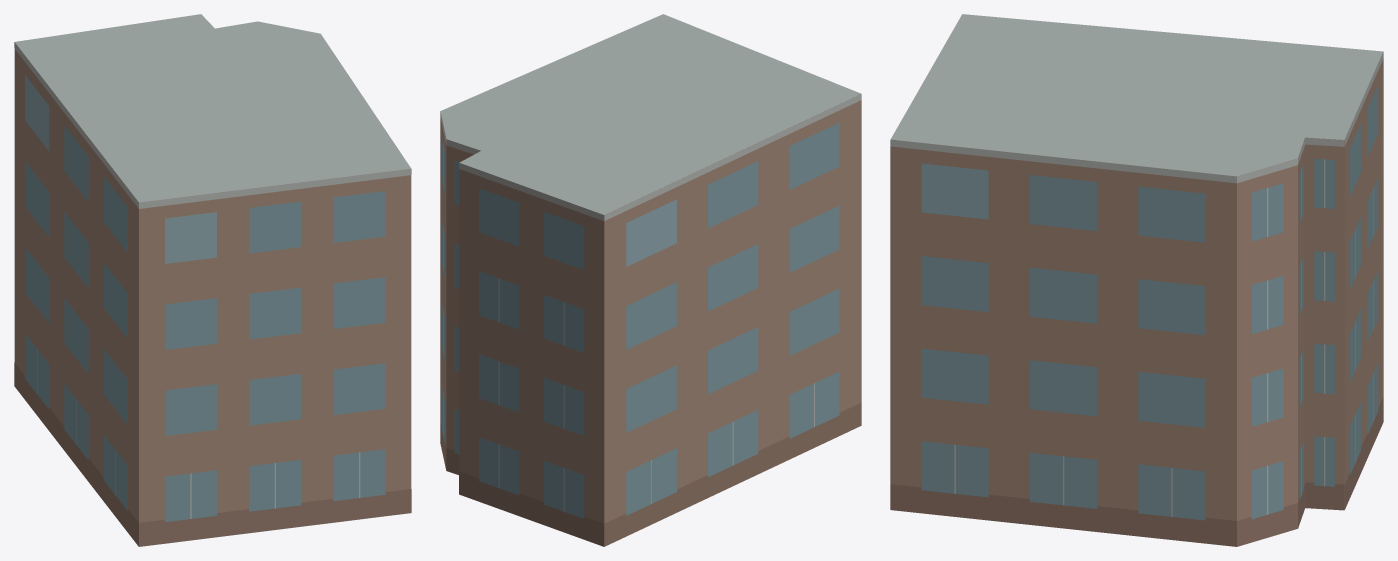
The model's file is survey-upis-33011114.glb.
3 views of the same model, side by side, from view 1: azimuth 30°, elevation 25°; view 2: azimuth 150°, elevation 25°; view 3: azimuth 270°, elevation 25° (orthographic). The views are drawn at different scales.
Visible parts, largest first — view 1: survey-upis-33011114.tmp; view 2: survey-upis-33011114.tmp; view 3: survey-upis-33011114.tmp.
Part boxes in pixels (left/top/right/bottom): survey-upis-33011114.tmp: left=14, top=14, right=411, bottom=546; survey-upis-33011114.tmp: left=440, top=14, right=861, bottom=546; survey-upis-33011114.tmp: left=890, top=14, right=1383, bottom=546.
Size of the model in its own units: 12.33 by 13.1 by 15.81.
